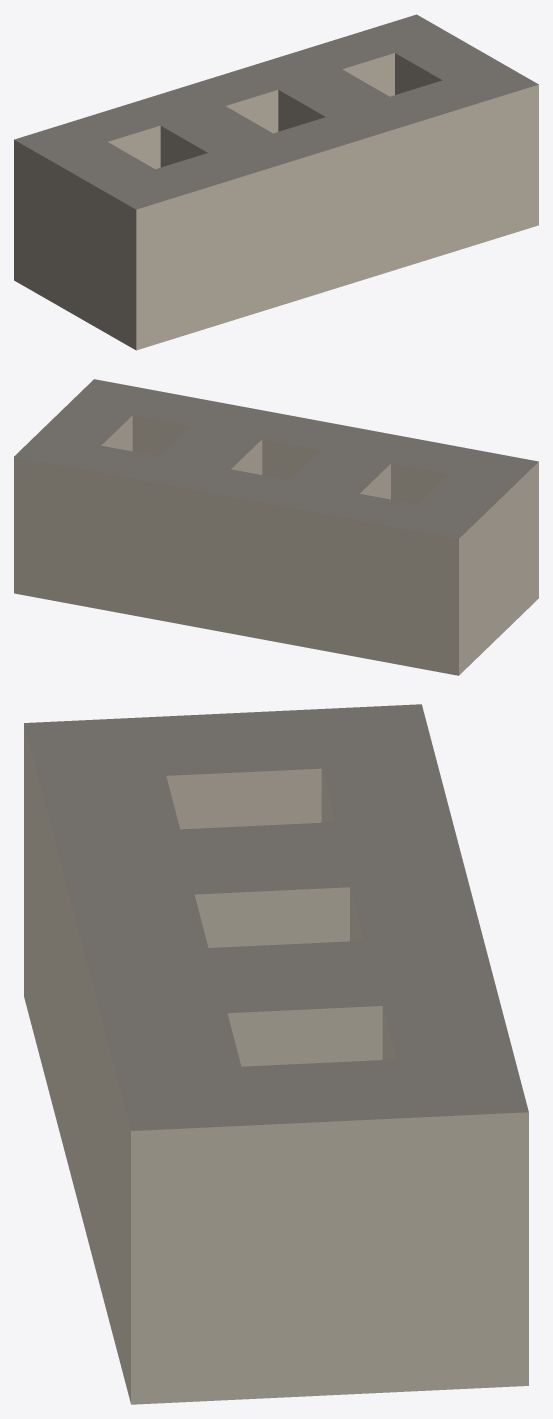
3 views of the same model, one above another, from view 1: azimuth 30°, elevation 25°; view 2: azimuth 150°, elevation 25°; view 3: azimuth 270°, elevation 25° (orthographic). The views are drawn at different scales.
Parts seen in each view (by area): view 1: HP-r3977522; view 2: HP-r3977522; view 3: HP-r3977522.
Boxes of the visible parts, x1,y1,x2,y2 form: HP-r3977522: [14, 14, 538, 350]; HP-r3977522: [14, 379, 538, 675]; HP-r3977522: [24, 704, 528, 1404].
Size of the model in its own units: 60.22 by 18 by 30.1.
